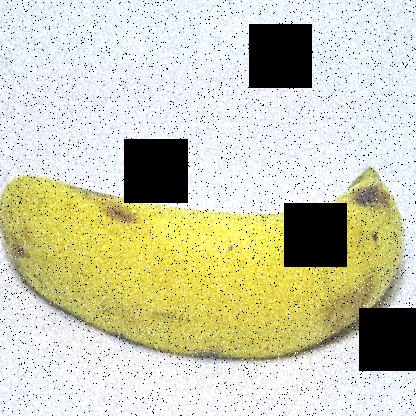freshripe: (0, 132, 415, 387)
